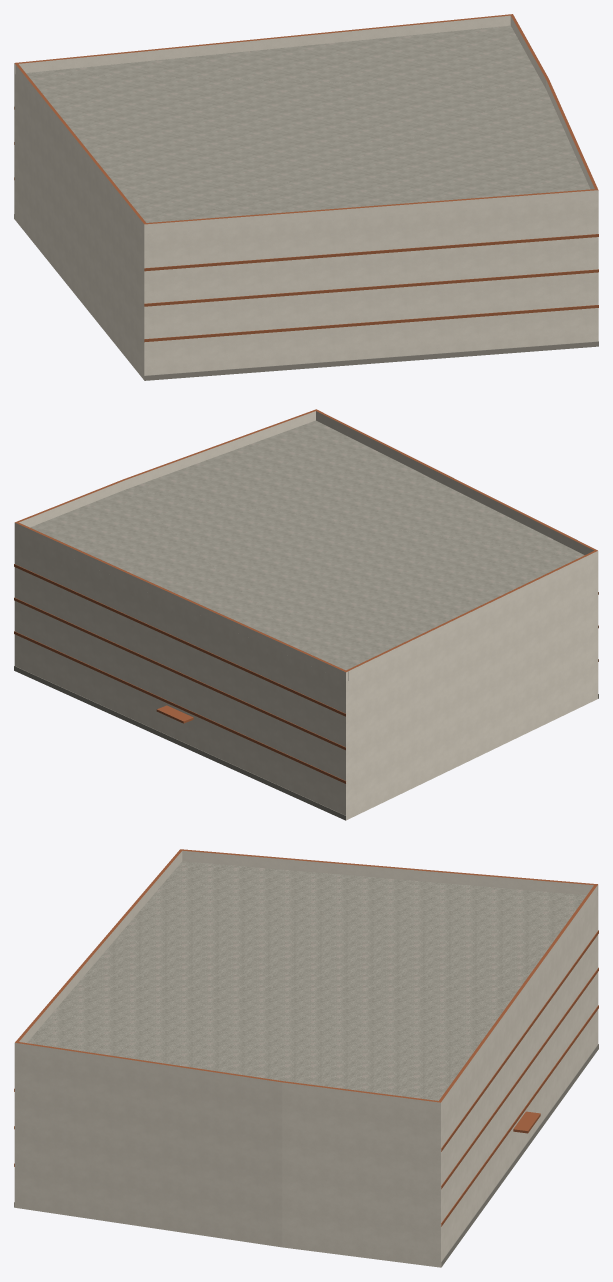
3 renders of one model, top to bottom at view 1: azimuth 30°, elevation 25°; view 2: azimuth 150°, elevation 25°; view 3: azimuth 270°, elevation 25°, orthographic. The views are drawn at different scales.
Parts seen in each view (by area): view 1: B-w877660201_lejos, B-w877660201_muros, B-w877660201_cubierta, B-w877660201_molduras; view 2: B-w877660201_lejos, B-w877660201_muros, B-w877660201_cubierta, B-w877660201_molduras; view 3: B-w877660201_lejos, B-w877660201_muros, B-w877660201_cubierta, B-w877660201_molduras.
Part boxes in pixels (left/top/right/bottom): B-w877660201_lejos: left=14, top=25, right=598, bottom=379; B-w877660201_muros: left=14, top=63, right=598, bottom=378; B-w877660201_cubierta: left=14, top=14, right=598, bottom=224; B-w877660201_molduras: left=14, top=107, right=598, bottom=380; B-w877660201_lejos: left=14, top=420, right=598, bottom=819; B-w877660201_muros: left=14, top=523, right=598, bottom=820; B-w877660201_cubierta: left=15, top=409, right=597, bottom=680; B-w877660201_molduras: left=14, top=564, right=598, bottom=820; B-w877660201_lejos: left=15, top=861, right=591, bottom=1266; B-w877660201_muros: left=14, top=884, right=598, bottom=1267; B-w877660201_cubierta: left=15, top=849, right=597, bottom=1102; B-w877660201_molduras: left=14, top=930, right=598, bottom=1267.
Size of the model in its own units: 46.54 by 14.1 by 45.31.
5 materials, 2 textured.
